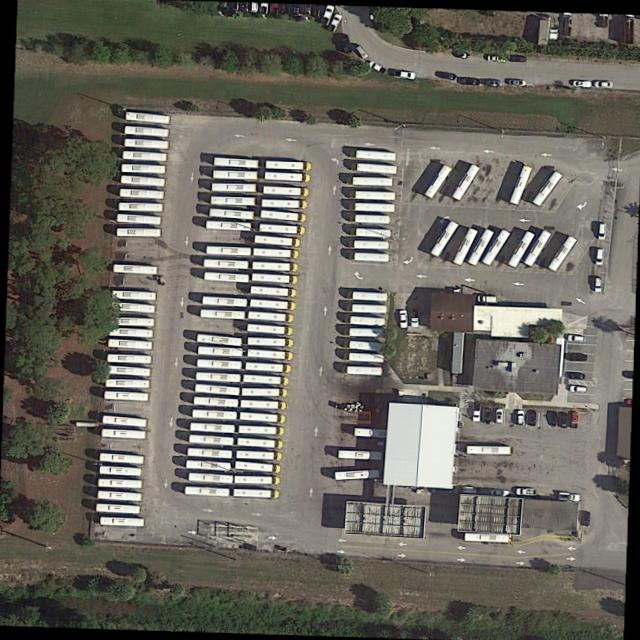large-vehicle: (531, 170, 563, 207), (451, 163, 481, 201), (481, 228, 511, 266), (547, 235, 577, 272), (523, 229, 552, 267), (430, 220, 459, 257), (507, 230, 535, 268), (508, 163, 533, 205), (467, 228, 494, 266), (452, 227, 478, 266), (424, 164, 452, 198), (101, 415, 149, 428), (116, 213, 163, 226), (124, 125, 171, 138), (99, 452, 146, 465), (239, 411, 286, 424), (125, 111, 172, 124), (196, 333, 242, 346), (254, 234, 300, 247), (260, 209, 306, 222), (120, 175, 167, 187), (124, 138, 171, 150), (95, 503, 142, 515), (104, 390, 151, 402), (97, 490, 144, 502), (234, 461, 281, 473), (247, 311, 294, 323), (194, 383, 240, 395), (111, 302, 157, 314), (119, 188, 165, 200), (106, 365, 152, 377), (209, 208, 255, 220), (263, 185, 309, 197), (237, 437, 283, 449), (334, 469, 379, 481), (250, 298, 295, 310), (107, 339, 155, 350), (99, 516, 147, 527), (99, 465, 143, 477), (192, 396, 239, 407), (201, 296, 248, 307), (108, 327, 155, 338), (111, 290, 158, 301), (205, 220, 252, 231), (97, 478, 144, 489), (101, 428, 148, 439), (353, 428, 400, 439), (251, 273, 298, 284), (240, 399, 287, 410), (203, 271, 249, 282), (184, 486, 230, 497), (187, 472, 233, 483), (185, 460, 231, 471), (188, 434, 234, 445), (189, 422, 235, 433), (196, 358, 242, 369), (122, 151, 168, 162), (213, 157, 259, 168), (259, 224, 305, 235), (264, 171, 310, 182), (253, 248, 299, 259), (236, 450, 282, 461), (243, 374, 289, 385), (245, 362, 291, 373), (247, 349, 293, 360), (247, 324, 293, 335), (355, 149, 397, 161), (195, 372, 240, 383), (213, 169, 258, 180), (251, 286, 296, 297), (357, 163, 398, 175), (118, 202, 165, 212), (121, 164, 168, 174), (106, 354, 153, 364), (105, 379, 152, 389), (265, 161, 312, 171), (241, 387, 288, 397), (238, 425, 285, 435), (187, 448, 233, 458), (197, 346, 243, 356), (205, 245, 251, 255), (110, 317, 156, 327), (113, 264, 159, 274), (210, 196, 256, 206), (233, 488, 279, 498), (261, 199, 307, 209), (466, 445, 512, 455), (252, 261, 298, 271), (247, 337, 293, 347), (192, 409, 237, 419), (200, 309, 245, 319), (337, 450, 382, 460), (203, 259, 248, 269), (354, 202, 396, 212), (116, 228, 162, 237), (211, 183, 257, 192), (464, 533, 510, 542), (234, 476, 280, 485), (348, 352, 385, 363), (348, 340, 385, 351), (349, 316, 386, 327), (346, 366, 383, 376), (349, 327, 386, 337), (355, 191, 396, 200), (352, 177, 393, 186), (354, 252, 390, 262), (352, 291, 388, 301), (353, 240, 390, 249), (356, 228, 392, 237), (355, 215, 391, 224), (352, 304, 387, 313)
small-vehicle: (327, 13, 343, 32), (320, 5, 334, 25), (339, 34, 353, 53), (368, 60, 386, 74), (392, 70, 416, 79), (450, 49, 469, 60), (558, 492, 580, 501), (355, 45, 369, 59), (568, 352, 587, 362), (435, 70, 456, 79), (399, 310, 409, 328), (507, 54, 526, 63), (490, 489, 510, 497), (559, 412, 569, 428), (526, 410, 536, 426), (472, 405, 481, 422), (596, 249, 605, 266), (569, 385, 588, 393), (567, 334, 586, 342), (477, 295, 498, 302), (581, 511, 590, 527), (570, 412, 579, 428), (548, 412, 558, 426), (515, 488, 535, 495), (458, 77, 478, 84), (568, 372, 585, 380), (598, 223, 606, 240), (494, 408, 503, 423), (573, 81, 592, 88), (487, 55, 506, 62), (594, 278, 602, 293), (485, 79, 502, 86), (516, 410, 524, 424), (595, 81, 613, 87), (509, 79, 526, 85)
